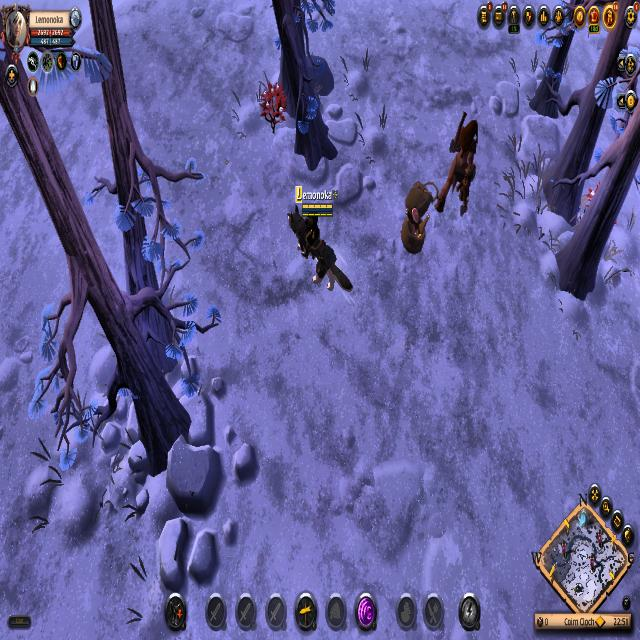fiber tier 5: (260, 82, 286, 131)
